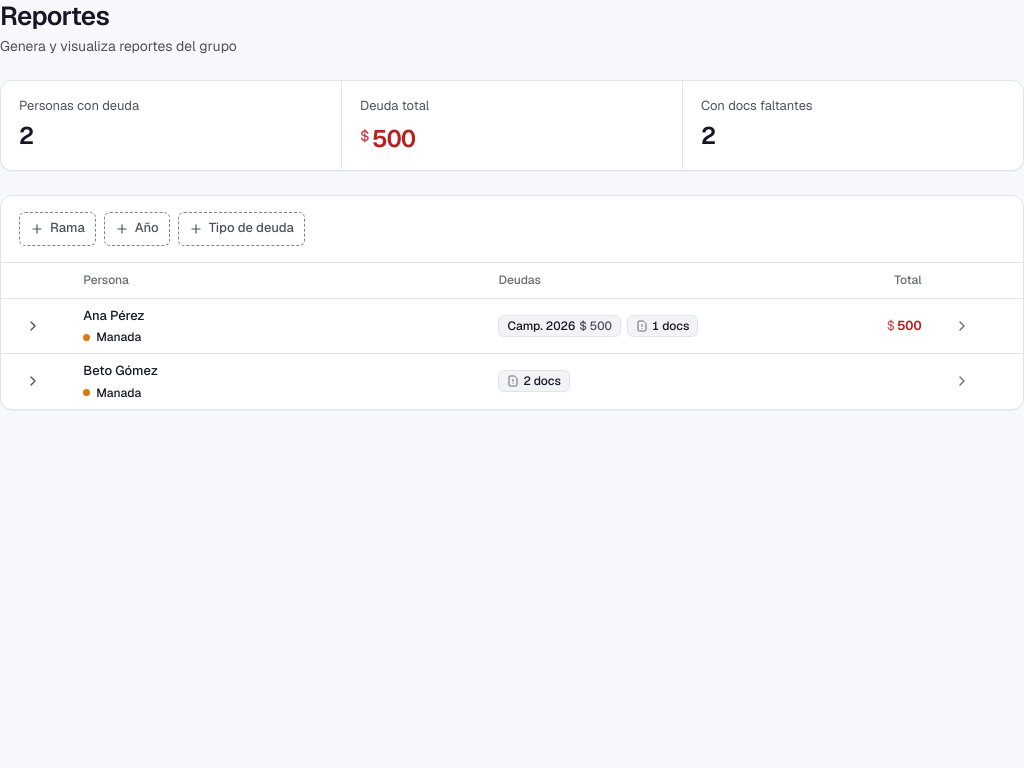
Test case: <DeudasView> › KPIs, tabla con nombre y chevron a la ficha, chips neutros y filas expandibles
This screenshot has width=1024, height=768.
What coordinates should you click on to do the following:
click the button named "Ver detalle de Ana Pérez"
I would click on:
 (33, 326)
Its box is [19,312,47,340].
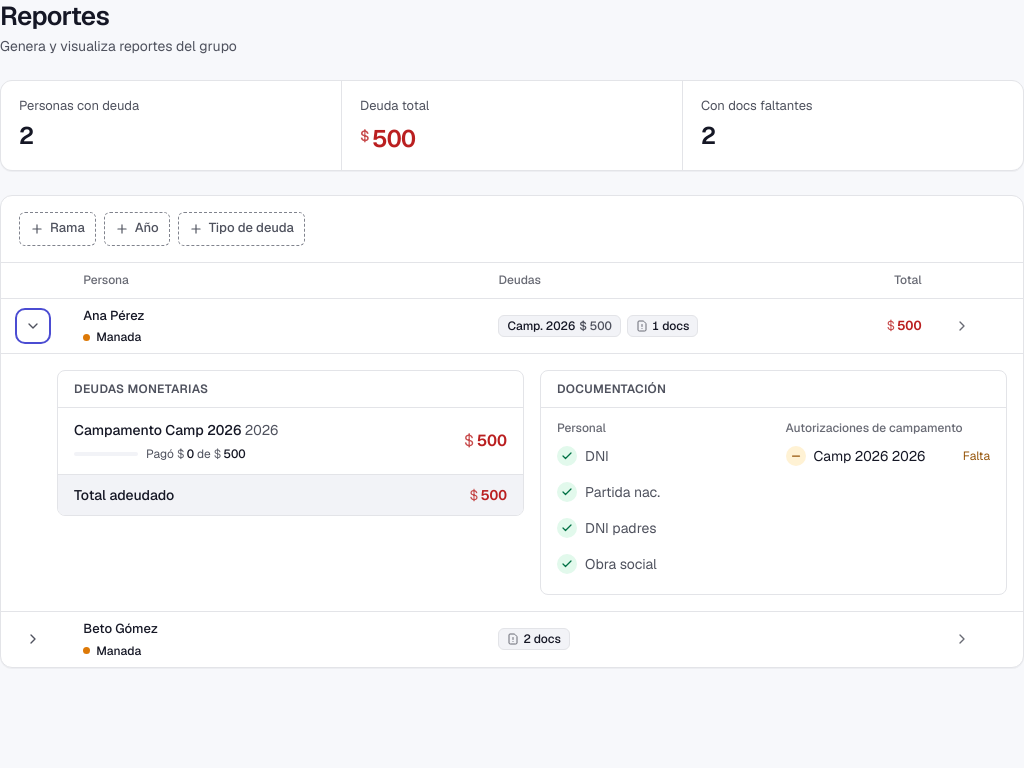
expect the text "Campamento Camp 2026" is shown: met, box [74,421,242,439]
expect the text "Pagó $0 de $500" is shown: met, box [146,446,246,462]
expect the heading "Autorizaciones de campamento" is shown: met, box [786,420,990,436]
What coordinates should you click on to do the following:
click the button named "Ver detalle de Beto Gómez"
I would click on:
 (33, 640)
Its box is [19,626,47,654].
(page scrolled)
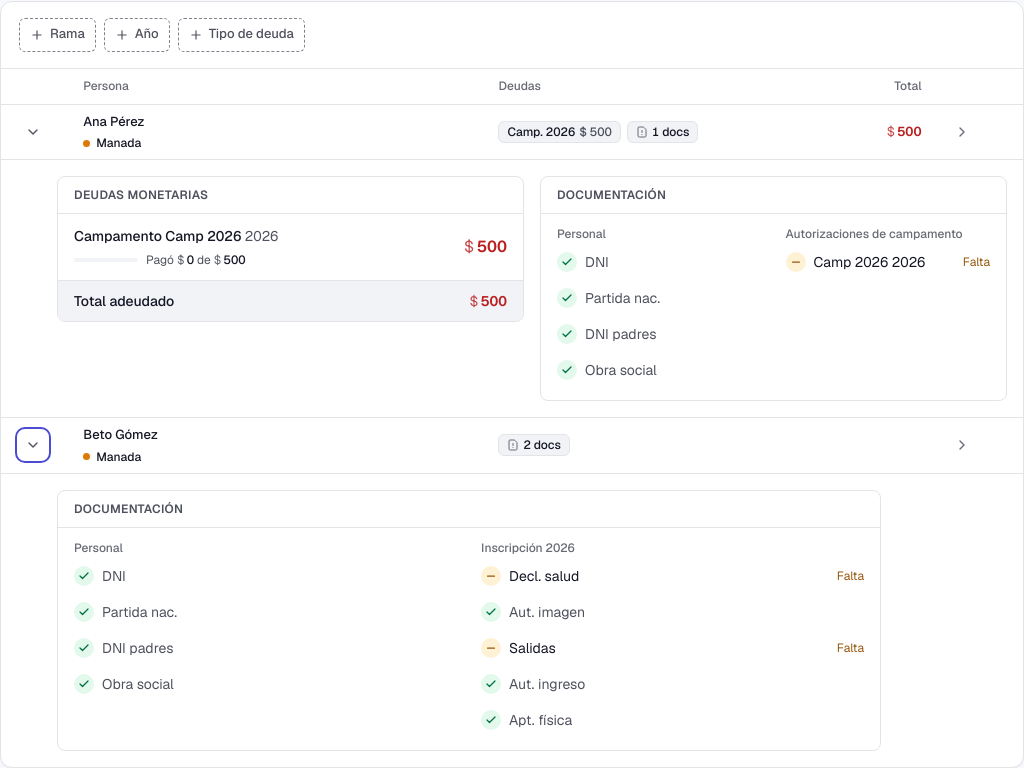
expect the heading "Inscripción 2026" is shown: met, box [481,540,575,556]
expect the text "Decl. salud" is shown: met, box [509,567,579,585]
